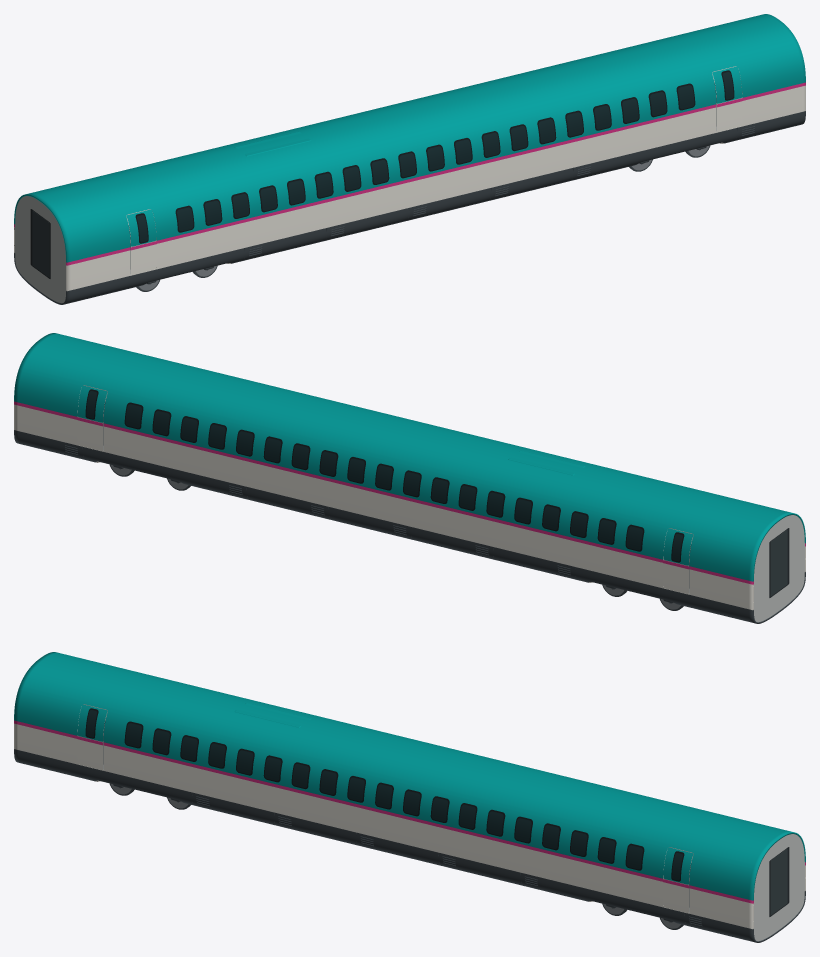
File: express-long-middle.glb
3 renders of one model, top to bottom at view 1: azimuth 30°, elevation 25°; view 2: azimuth 150°, elevation 25°; view 3: azimuth 330°, elevation 25°, orthographic.
Visible parts, largest first — view 1: body, door_right_front, door_right_rear; view 2: body, door_left_front, door_left_rear; view 3: body, door_right_rear, door_right_front.
Boxes of the visible parts, left/top/right/bottom form: body: left=14, top=14, right=805, bottom=304; door_right_front: left=712, top=66, right=742, bottom=132; door_right_rear: left=126, top=209, right=156, bottom=275; body: left=14, top=333, right=805, bottom=623; door_left_front: left=77, top=385, right=107, bottom=451; door_left_rear: left=663, top=528, right=693, bottom=594; body: left=14, top=652, right=805, bottom=942; door_right_rear: left=77, top=704, right=107, bottom=770; door_right_front: left=663, top=847, right=693, bottom=913.
Size of the model in its own units: 27 by 3.65 by 3.42.
